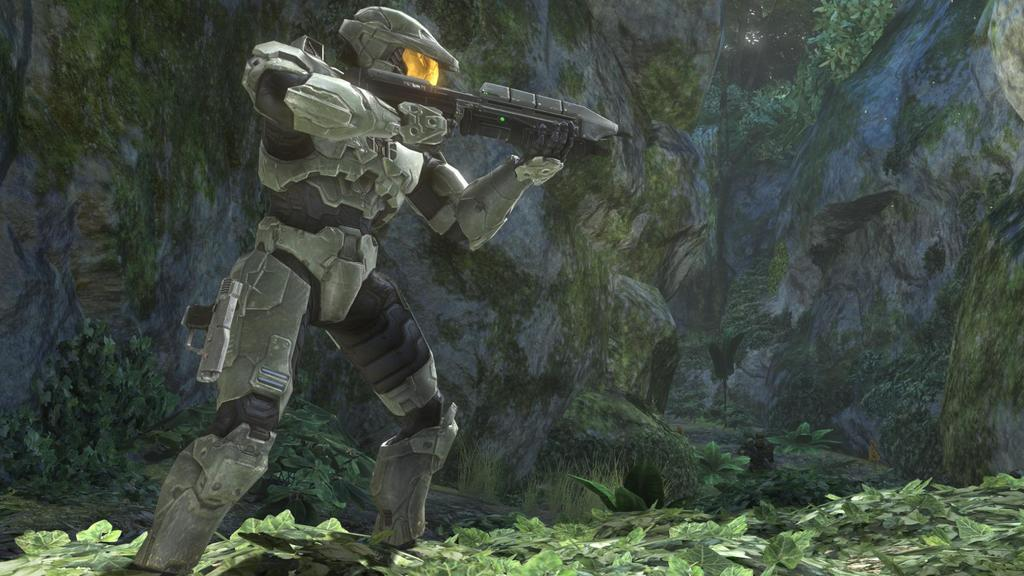Rifle: (364, 72, 636, 149)
